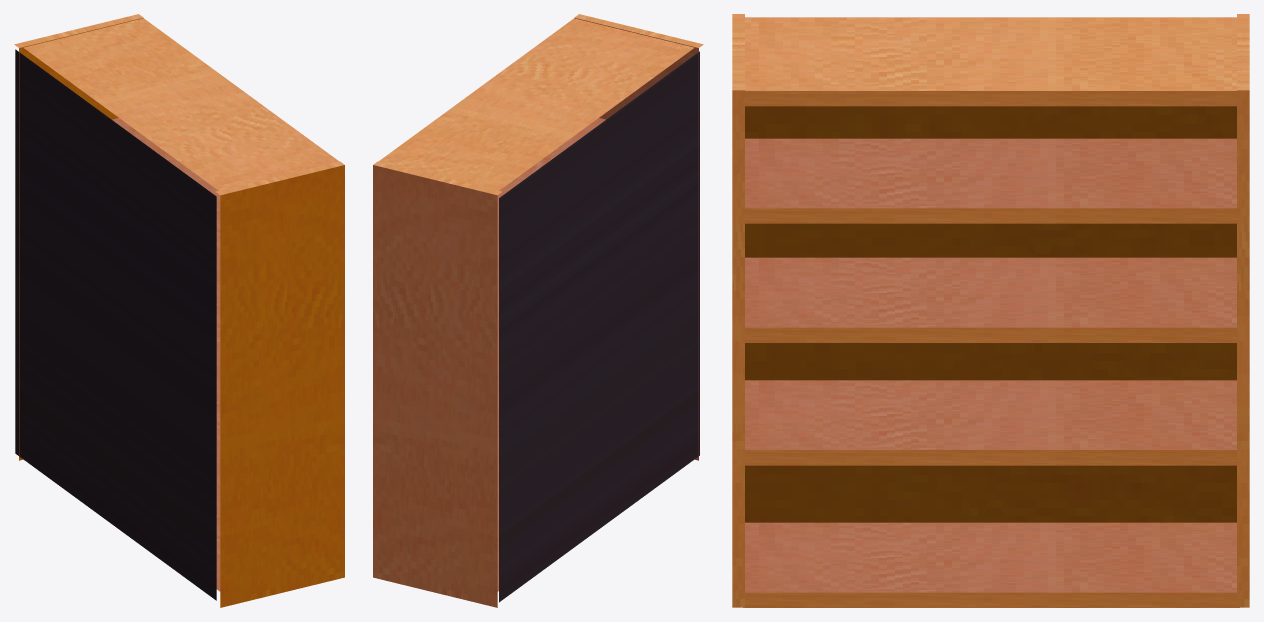
3 renders of one model, left to right at view 1: azimuth 30°, elevation 25°; view 2: azimuth 150°, elevation 25°; view 3: azimuth 270°, elevation 25°, orthographic. The views are drawn at different scales.
Parts seen in each view (by area): view 1: Joint_0_Object_0; view 2: Joint_0_Object_0; view 3: Joint_0_Object_0.
Boxes of the visible parts, <box> form: Joint_0_Object_0: <box>14,14,344,607</box>; Joint_0_Object_0: <box>373,14,703,607</box>; Joint_0_Object_0: <box>732,14,1249,607</box>.
Size of the model in its own units: 1361 by 4304 by 3897.
1 material, 1 textured.
